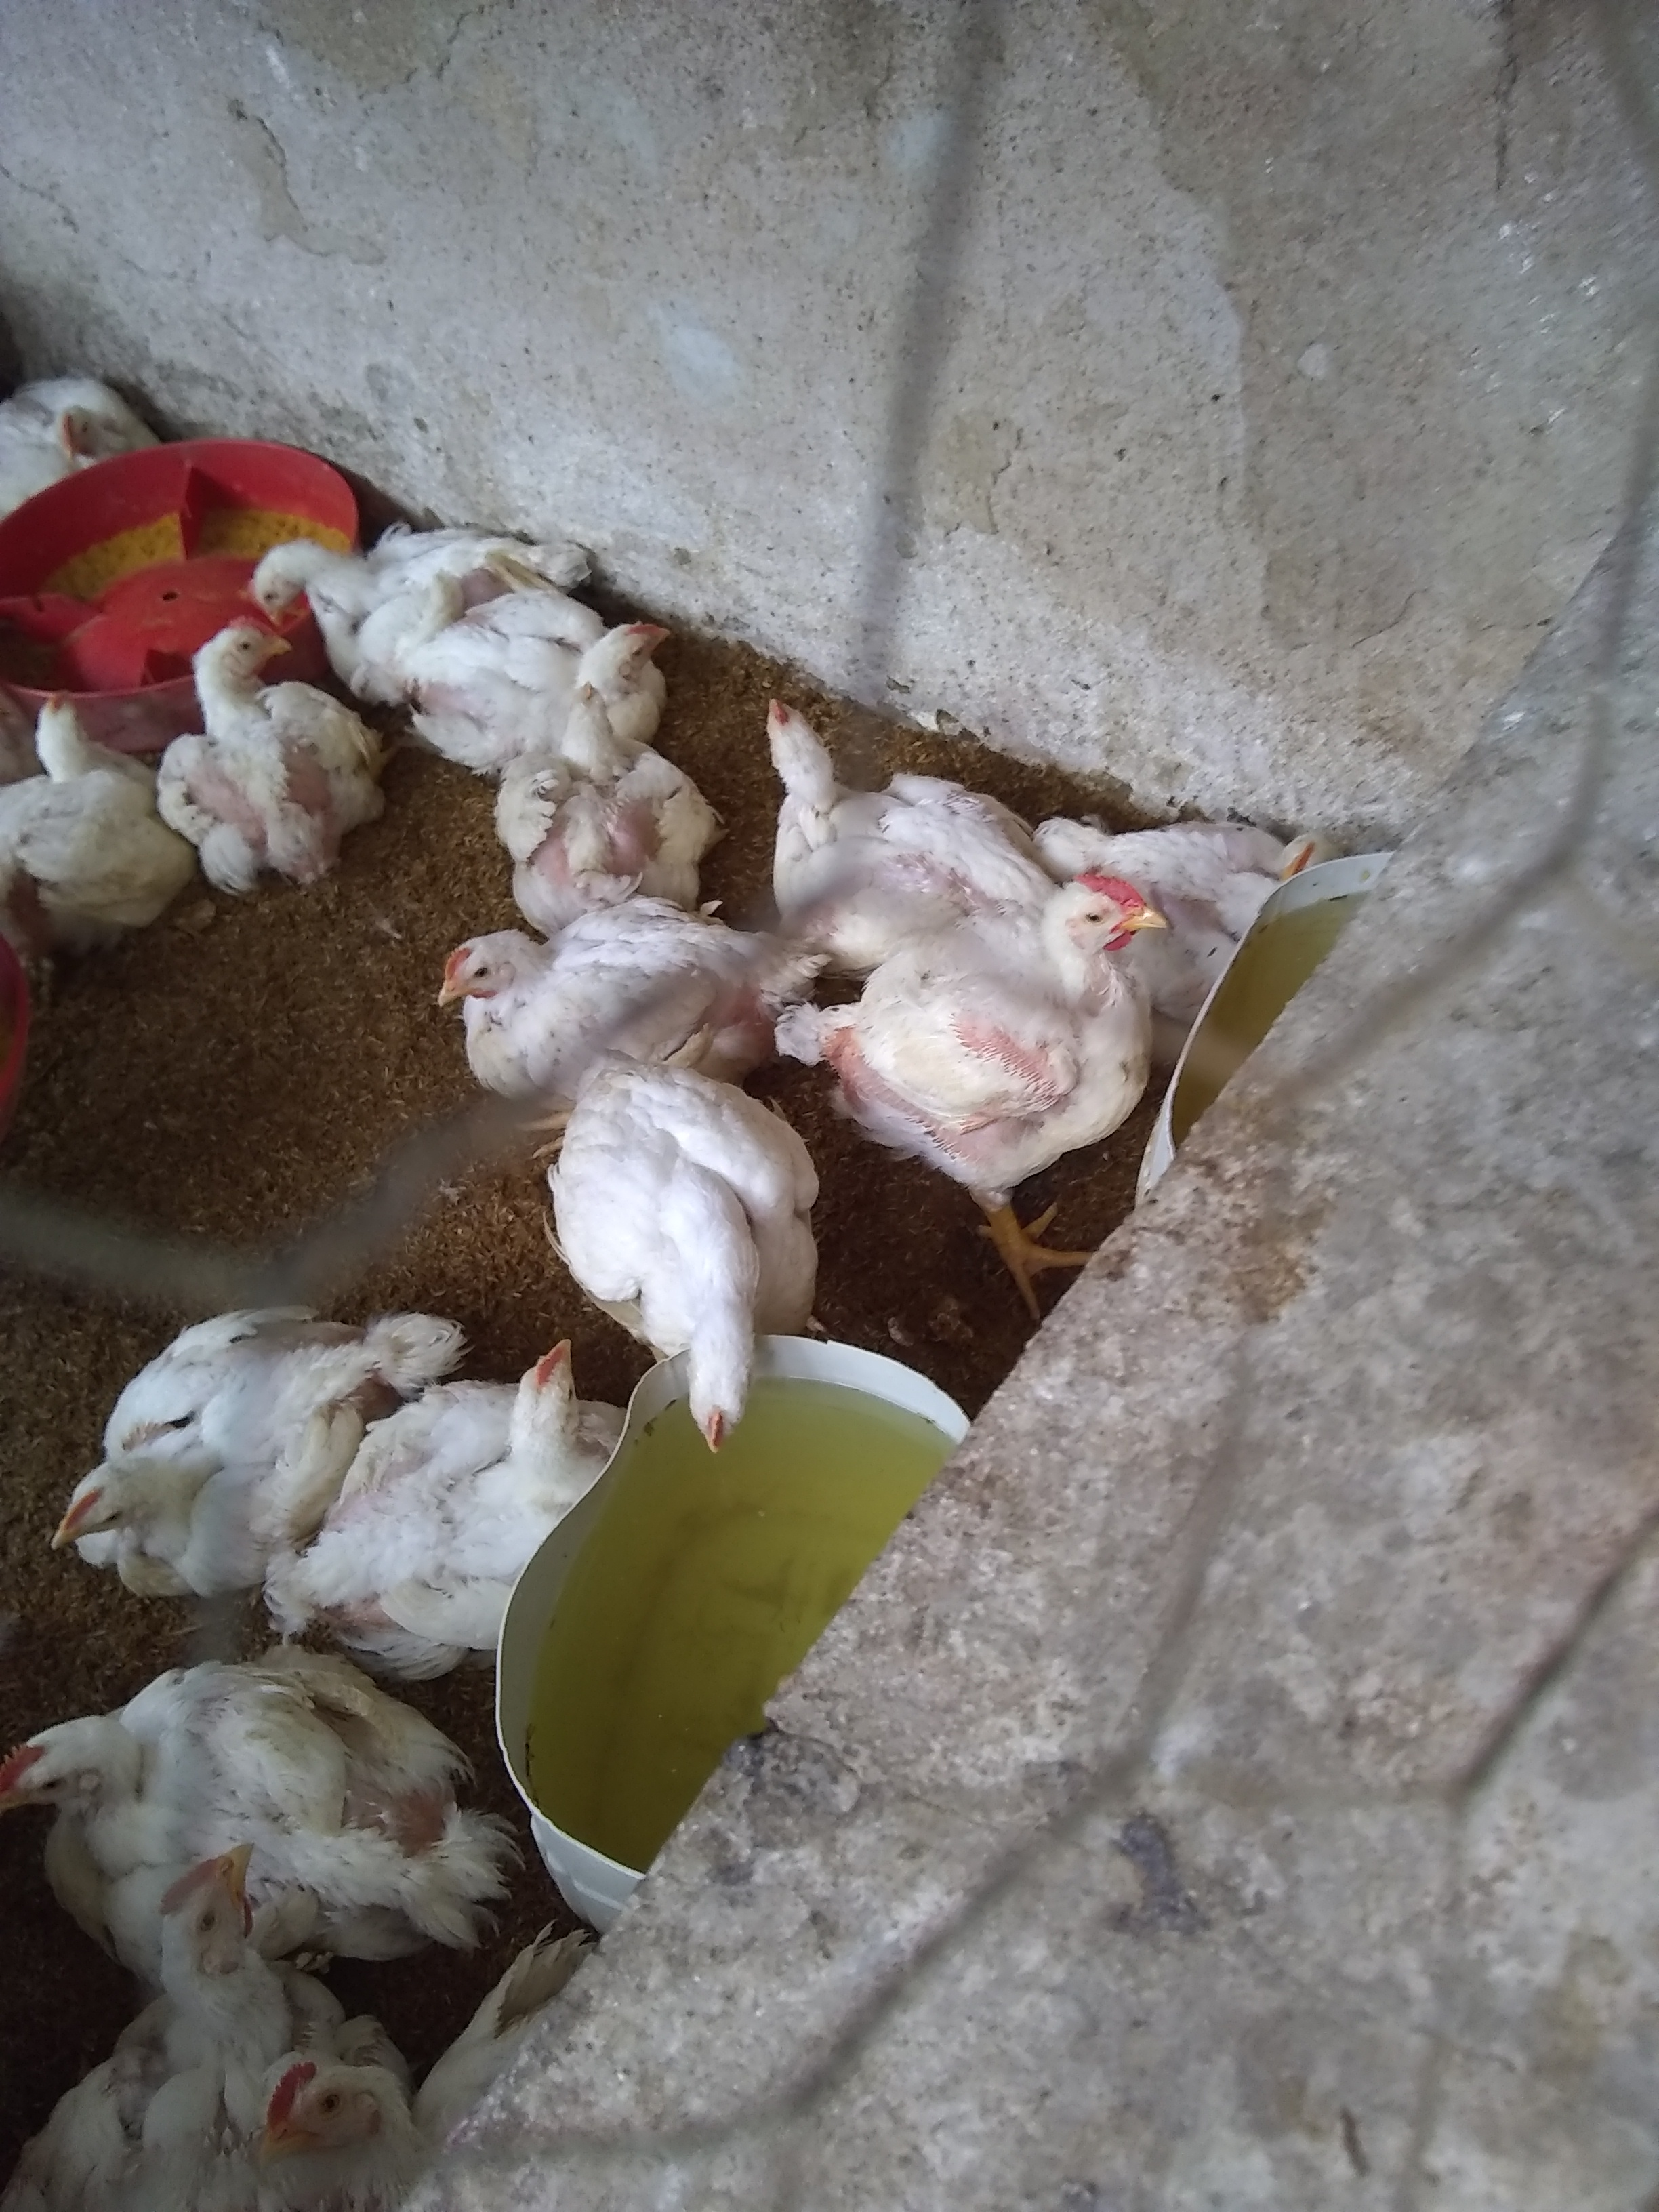Pollos: (0, 1646, 476, 1956), (833, 848, 1178, 1221), (516, 1068, 823, 1463), (301, 1322, 655, 1639), (44, 1289, 373, 1623), (54, 1841, 312, 2155), (396, 862, 735, 1087), (714, 669, 1009, 925), (1077, 730, 1378, 939), (166, 618, 399, 876), (476, 669, 695, 888), (242, 2029, 500, 2212), (0, 336, 207, 554), (279, 519, 523, 697), (429, 575, 662, 758), (0, 691, 171, 935)
